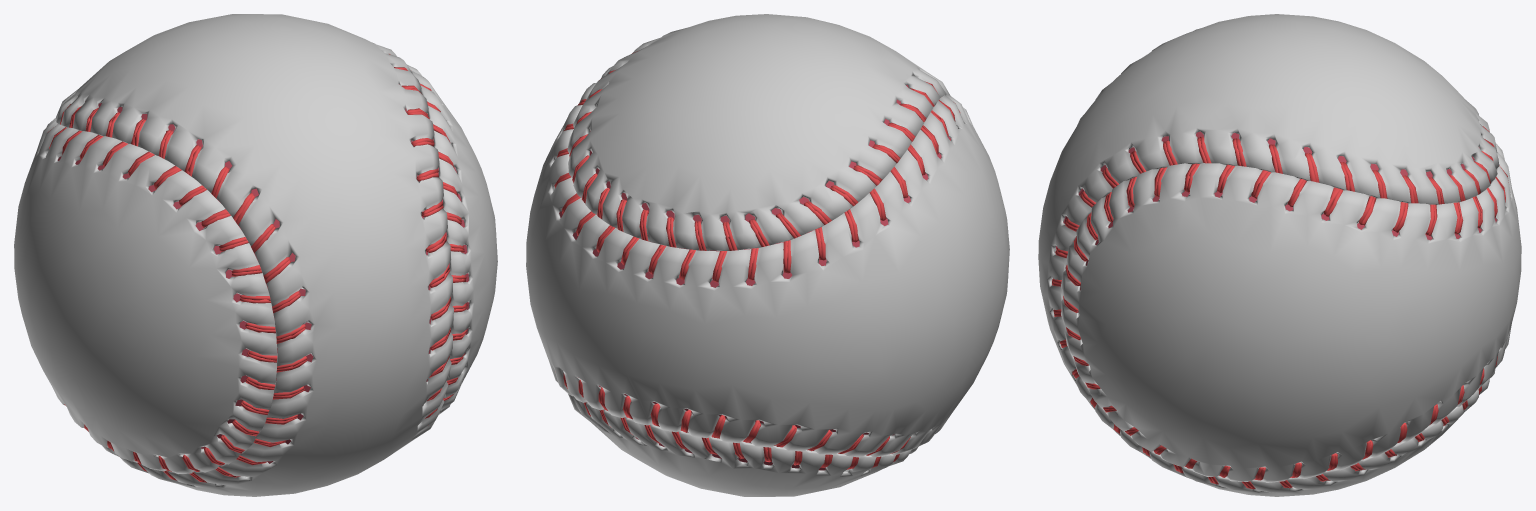
The model's file is Baseball.glb.
The picture shows the model from 3 angles, left to right: view 1: azimuth 30°, elevation 25°; view 2: azimuth 150°, elevation 25°; view 3: azimuth 270°, elevation 25°; orthographic projection.
Parts seen in each view (by area): view 1: baseball; view 2: baseball; view 3: baseball.
Boxes of the visible parts, bbox=[...] form: baseball: bbox=[14, 14, 497, 496]; baseball: bbox=[526, 14, 1009, 496]; baseball: bbox=[1038, 14, 1521, 496].
Size of the model in its own units: 7.46 by 7.46 by 7.47.
